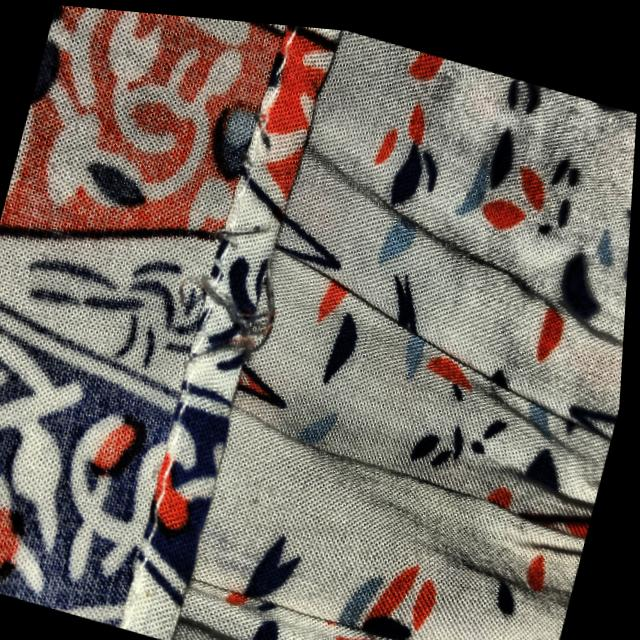Stitch: (137, 141, 358, 430)
